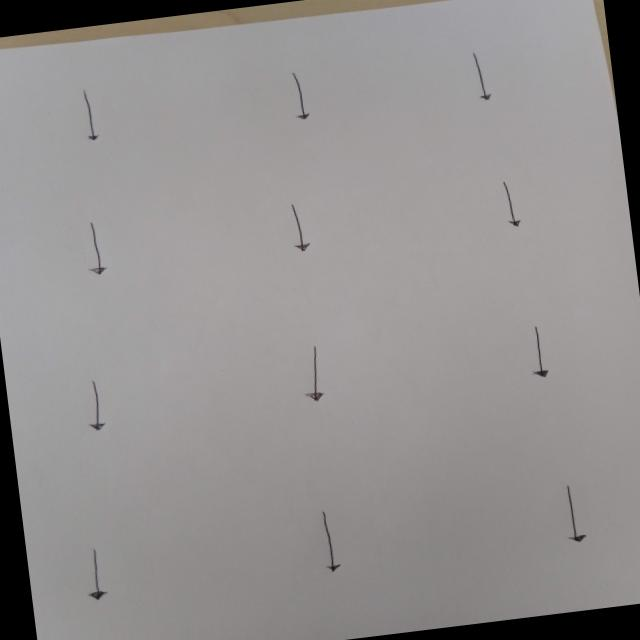arrow_line_down: (308, 506, 356, 582), (514, 317, 564, 383), (550, 481, 595, 546), (292, 346, 336, 404), (278, 198, 320, 258), (457, 46, 498, 106), (74, 382, 115, 437), (278, 68, 318, 124), (80, 216, 112, 284), (70, 86, 106, 146), (78, 548, 112, 610), (490, 180, 525, 234)
